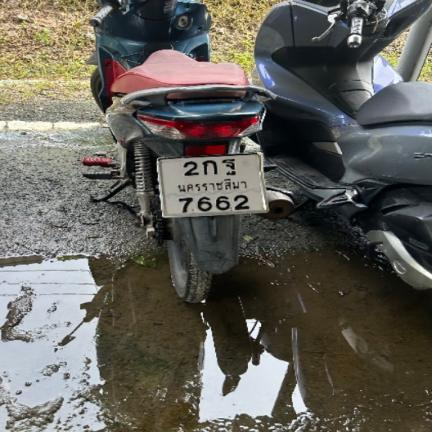2: (180, 161, 200, 176), (233, 194, 251, 210)
6: (214, 195, 231, 210), (198, 196, 213, 212)
7: (176, 195, 193, 213)
A01: (202, 160, 218, 175)
A16: (221, 158, 237, 175)
NMA: (175, 175, 250, 193)
